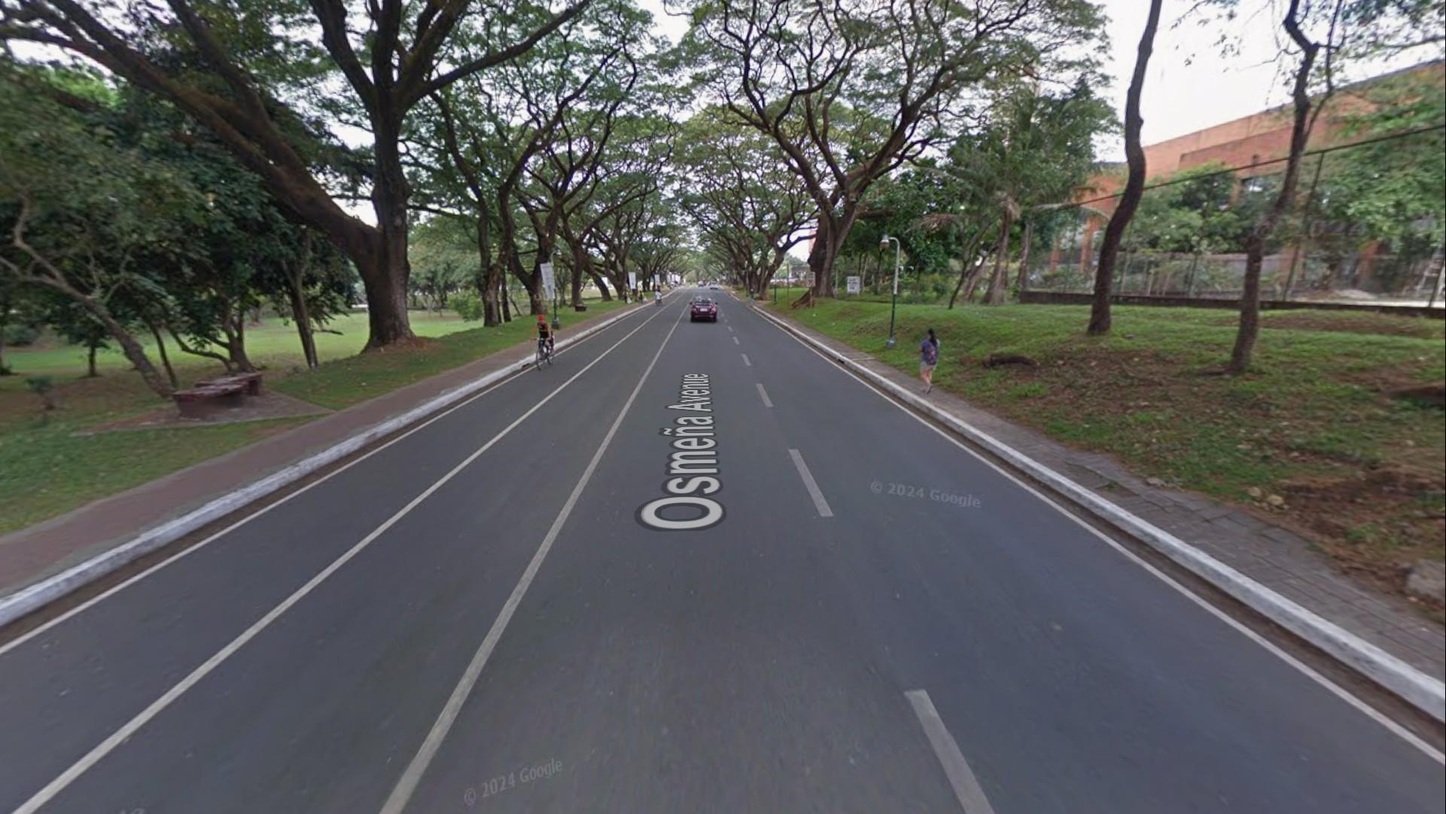cyclist: (531, 314, 556, 371)
pedestrian: (917, 327, 941, 395), (622, 282, 633, 304), (637, 287, 648, 306), (655, 287, 663, 307)
